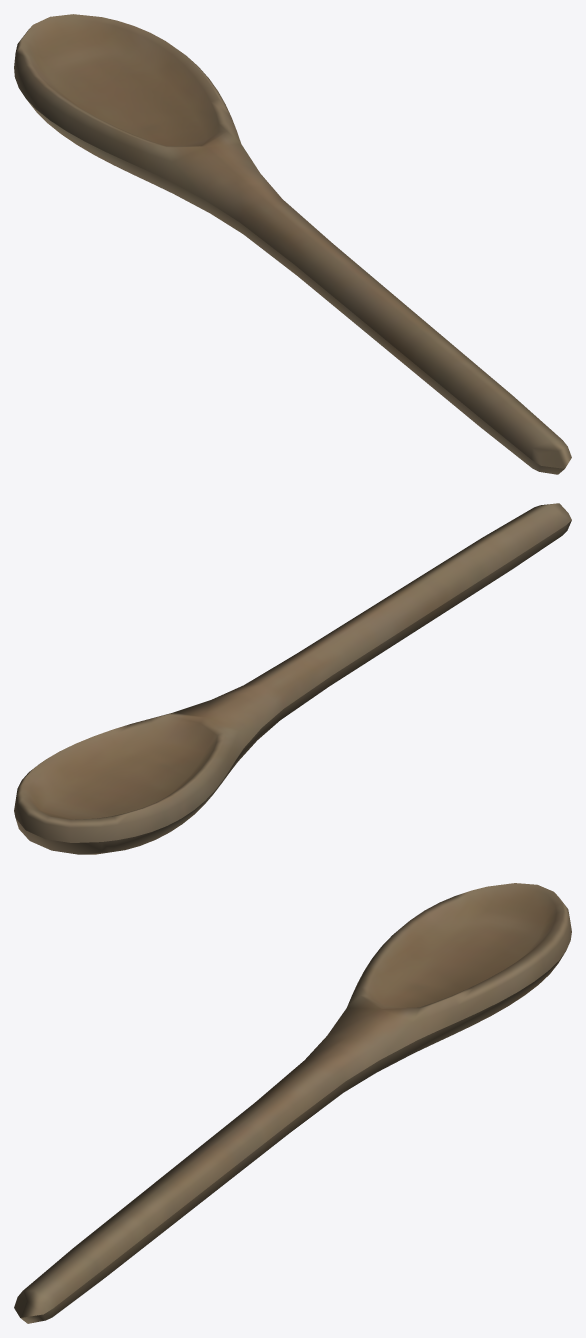
File: SM_Farm_Laddle.fbx
3 views of the same model, one above another, from view 1: azimuth 30°, elevation 25°; view 2: azimuth 150°, elevation 25°; view 3: azimuth 330°, elevation 25° (orthographic). The views are drawn at different scales.
Visible parts, largest first — view 1: SM_Farm_Laddle_LOD0; view 2: SM_Farm_Laddle_LOD0; view 3: SM_Farm_Laddle_LOD0.
Part boxes in pixels (x1,y1,x2,y2): SM_Farm_Laddle_LOD0: (14,14,571,474); SM_Farm_Laddle_LOD0: (14,503,571,854); SM_Farm_Laddle_LOD0: (14,883,571,1323).
Size of the model in its own units: 9.81 by 5.04 by 60.05.
